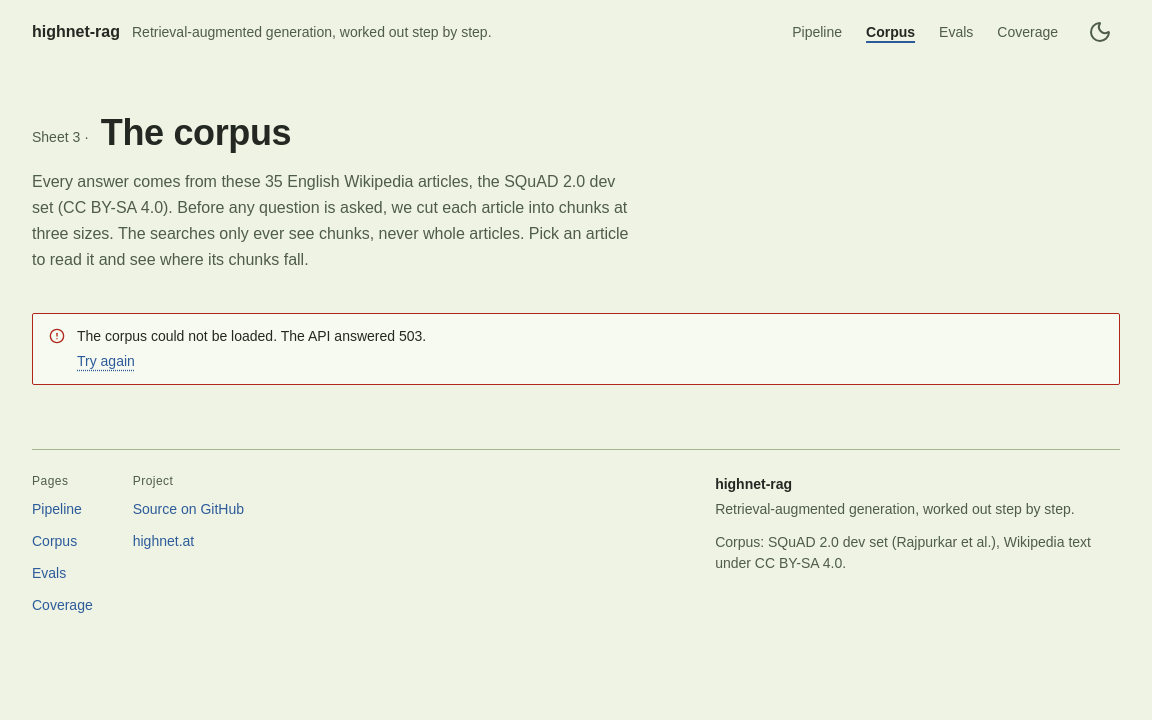
corpus page › explains a failed load and retries
Expected: the text "The corpus could not be loaded. The API answered 503." is shown, x1=77 y1=328 x2=426 y2=344
Click the button "Try again": (106, 361) x1=77 y1=351 x2=135 y2=371
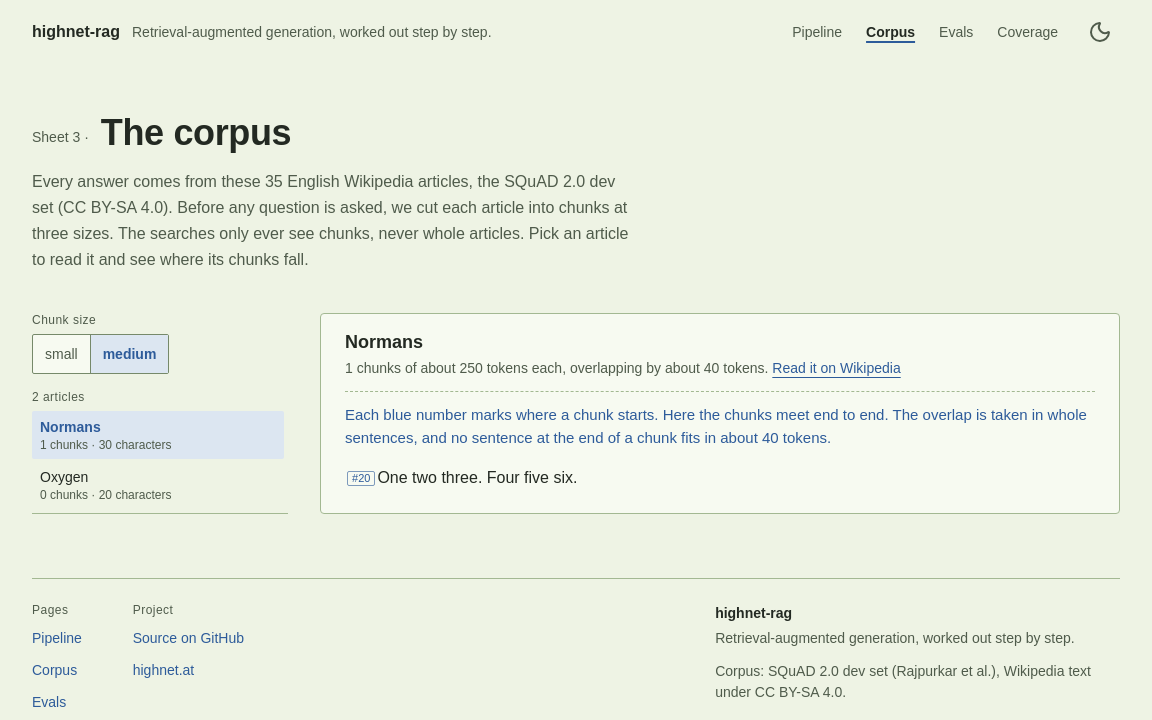
Expected: the heading "Normans" is shown, x1=345 y1=332 x2=423 y2=352
